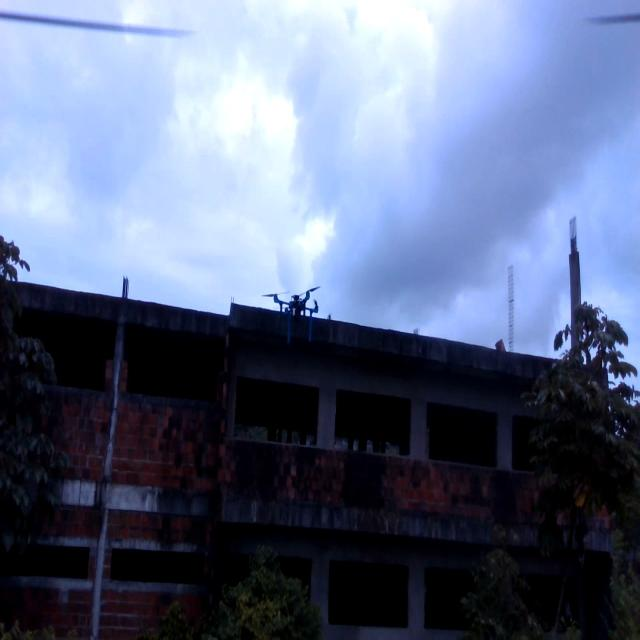-uav-: (257, 279, 330, 354)
